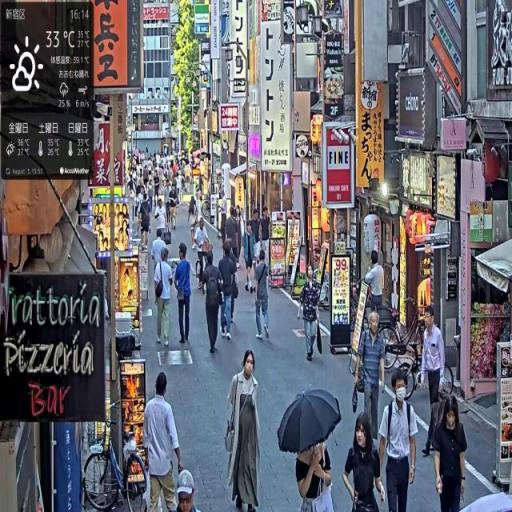person: (226, 347, 263, 512), (377, 367, 419, 512), (144, 370, 184, 512), (354, 308, 388, 445), (431, 395, 469, 512), (344, 413, 387, 511), (421, 307, 447, 458), (200, 249, 227, 357), (297, 442, 335, 512), (301, 266, 324, 364), (156, 245, 177, 350), (218, 241, 240, 340), (253, 249, 274, 344), (175, 247, 193, 348), (241, 222, 258, 296)
